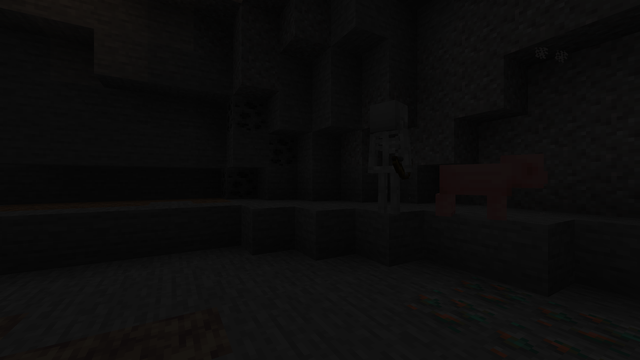cochons: (434, 161, 517, 221)
squelettes: (365, 99, 412, 216)
